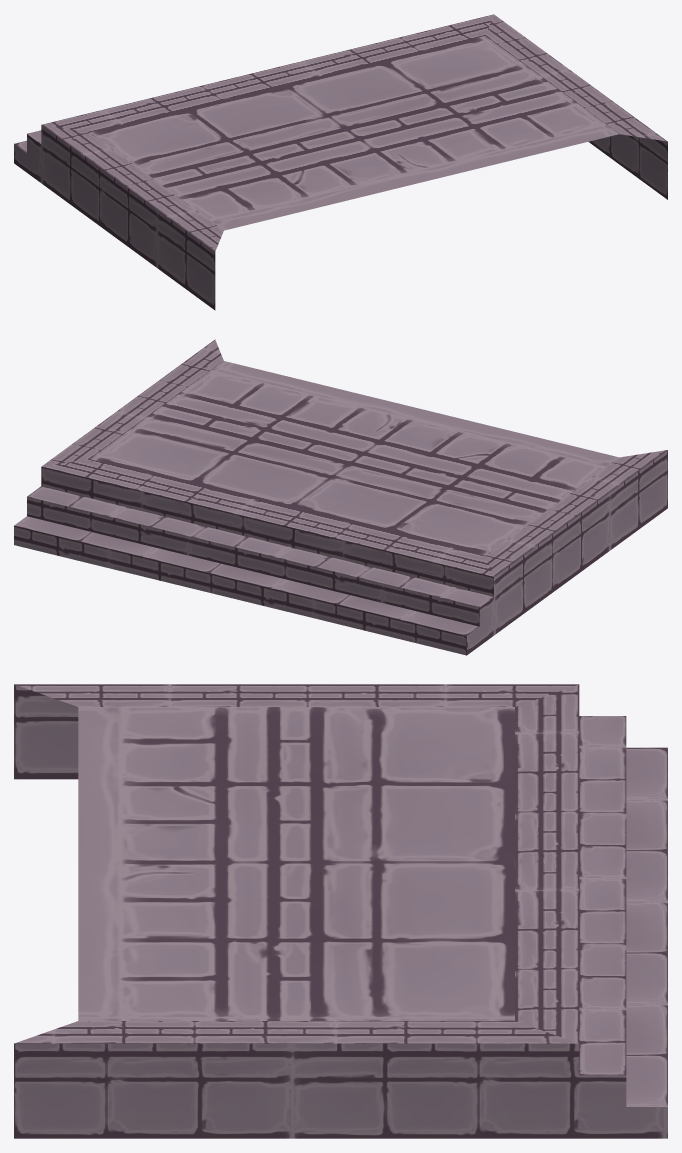
File: Throne stair.fbx
3 views of the same model, one above another, from view 1: azimuth 30°, elevation 25°; view 2: azimuth 150°, elevation 25°; view 3: azimuth 270°, elevation 25° (orthographic). The views are drawn at different scales.
Parts seen in each view (by area): view 1: pCube383; view 2: pCube383; view 3: pCube383.
Boxes of the visible parts, box(x1,y1,x2,y2) form: pCube383: box(14, 14, 667, 310); pCube383: box(14, 339, 667, 655); pCube383: box(14, 684, 667, 1138).
Bounding box in the file's own units: 913 × 113 × 703.
